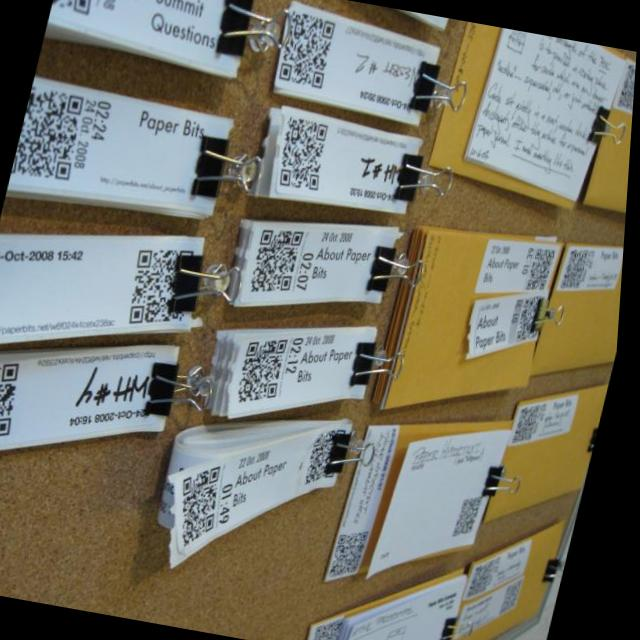qrcode: (12, 87, 90, 184), (126, 245, 203, 334), (175, 460, 234, 552), (275, 12, 338, 90), (276, 117, 335, 192), (238, 334, 294, 410), (252, 226, 308, 300), (1, 355, 31, 455), (335, 527, 376, 584), (310, 427, 341, 488), (519, 294, 549, 346), (459, 493, 489, 541), (530, 247, 559, 293), (563, 248, 592, 292), (474, 557, 502, 602), (518, 402, 545, 447), (617, 63, 638, 113), (508, 576, 531, 618), (320, 614, 352, 640), (51, 1, 100, 16)
